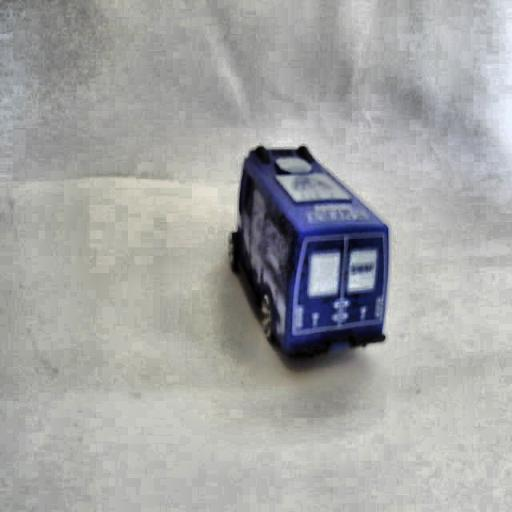police car: (228, 137, 394, 368)
